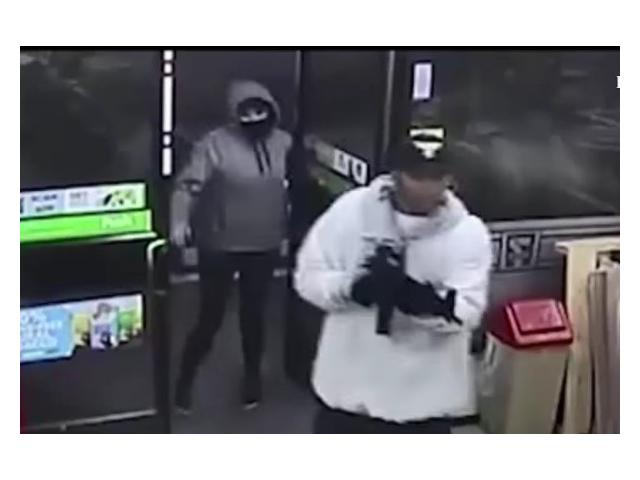rifle: (344, 240, 465, 340)
